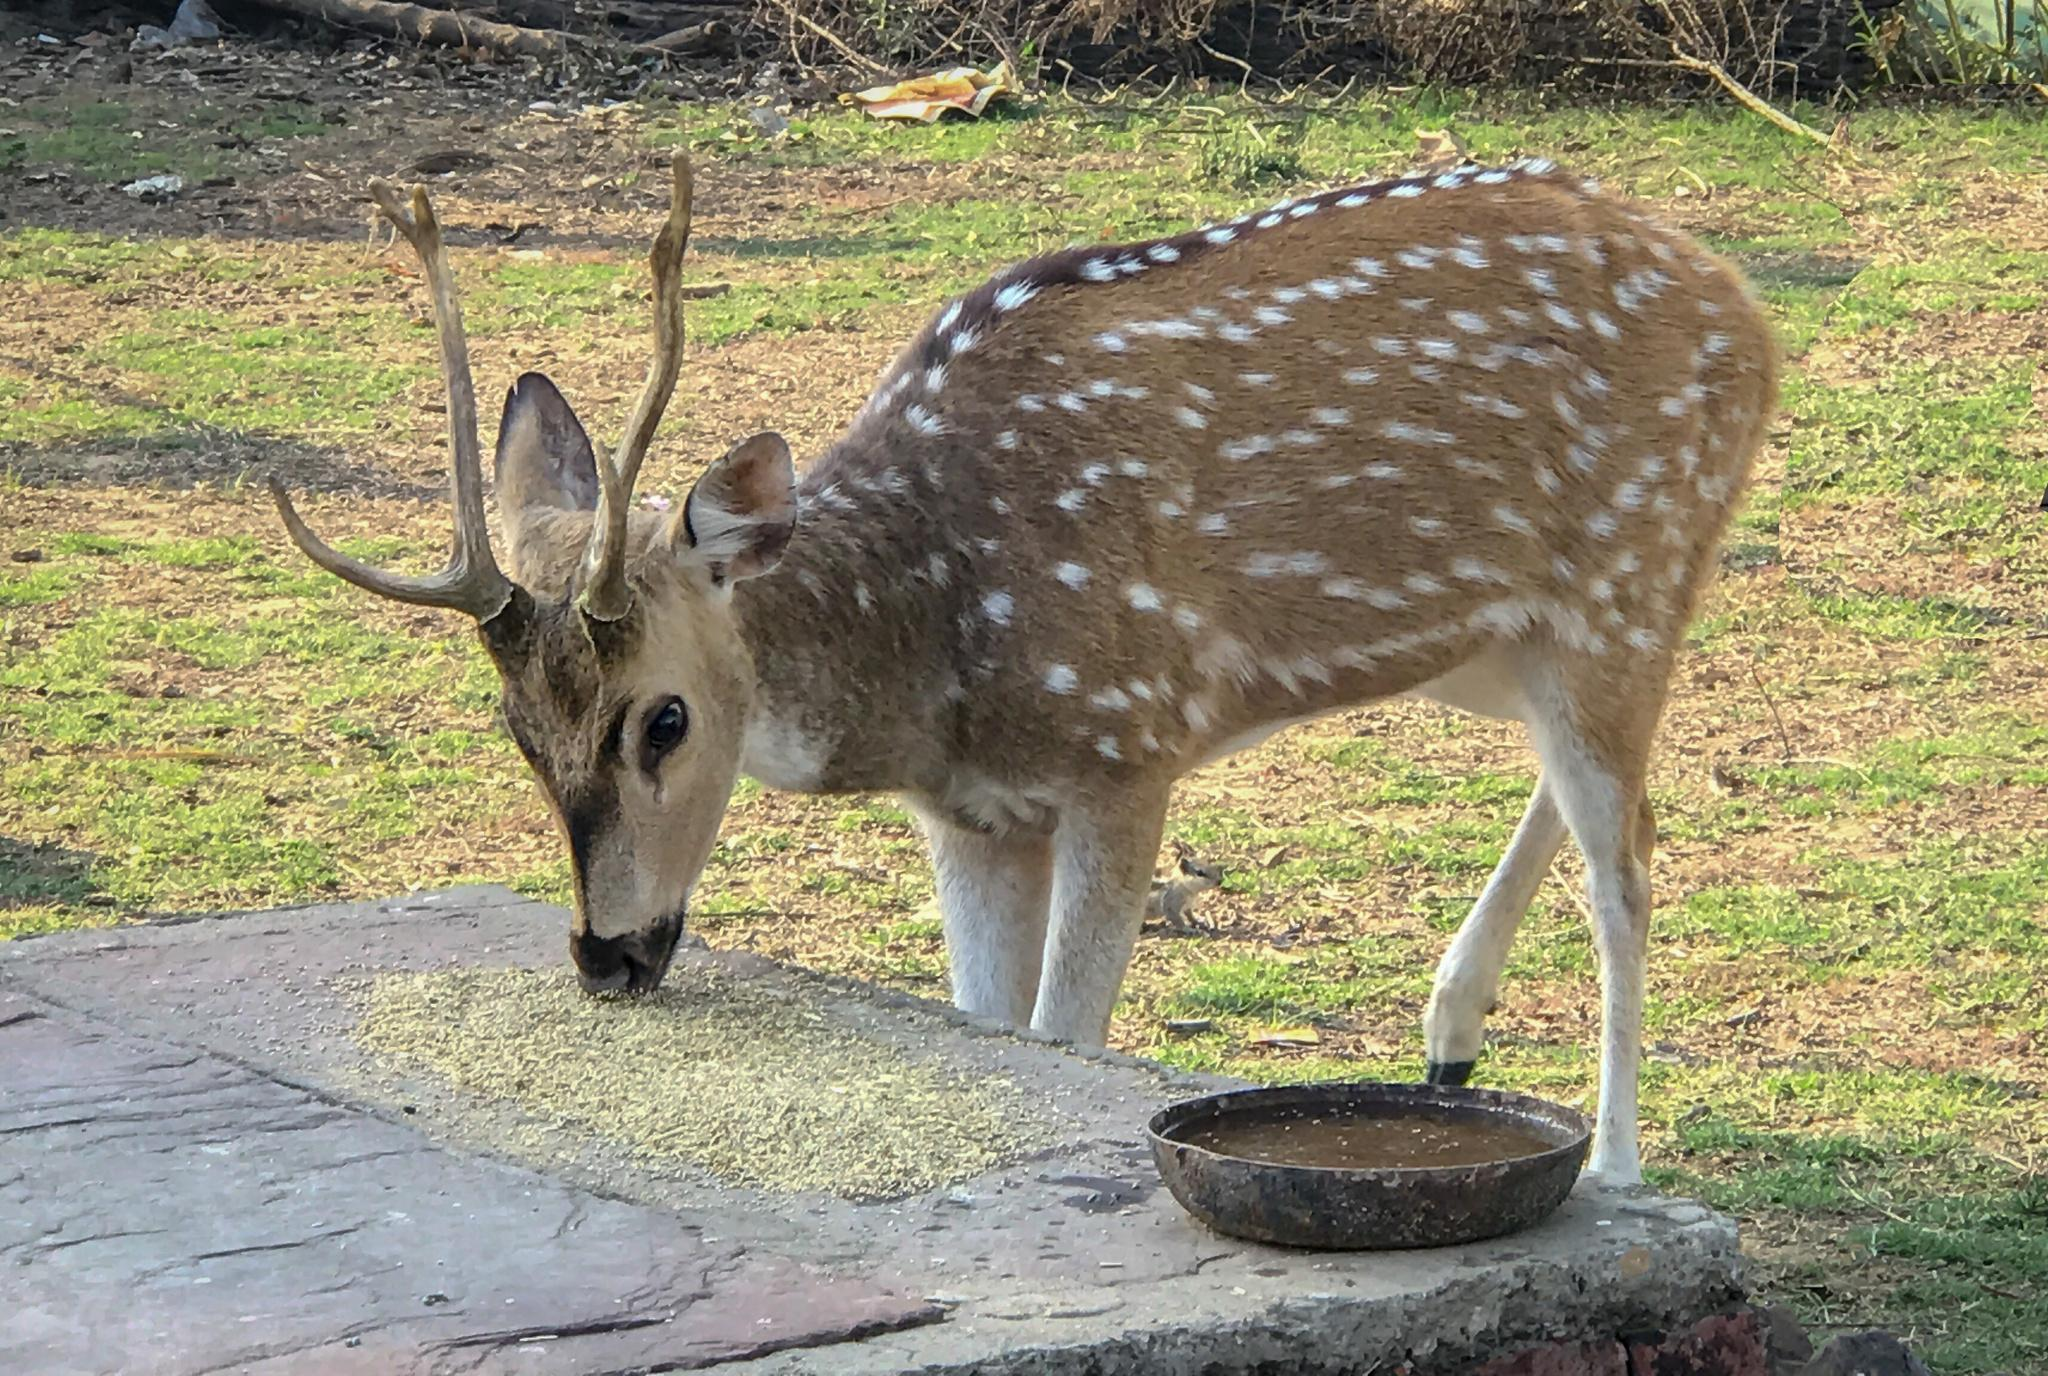Deer: (270, 154, 1776, 1184)
